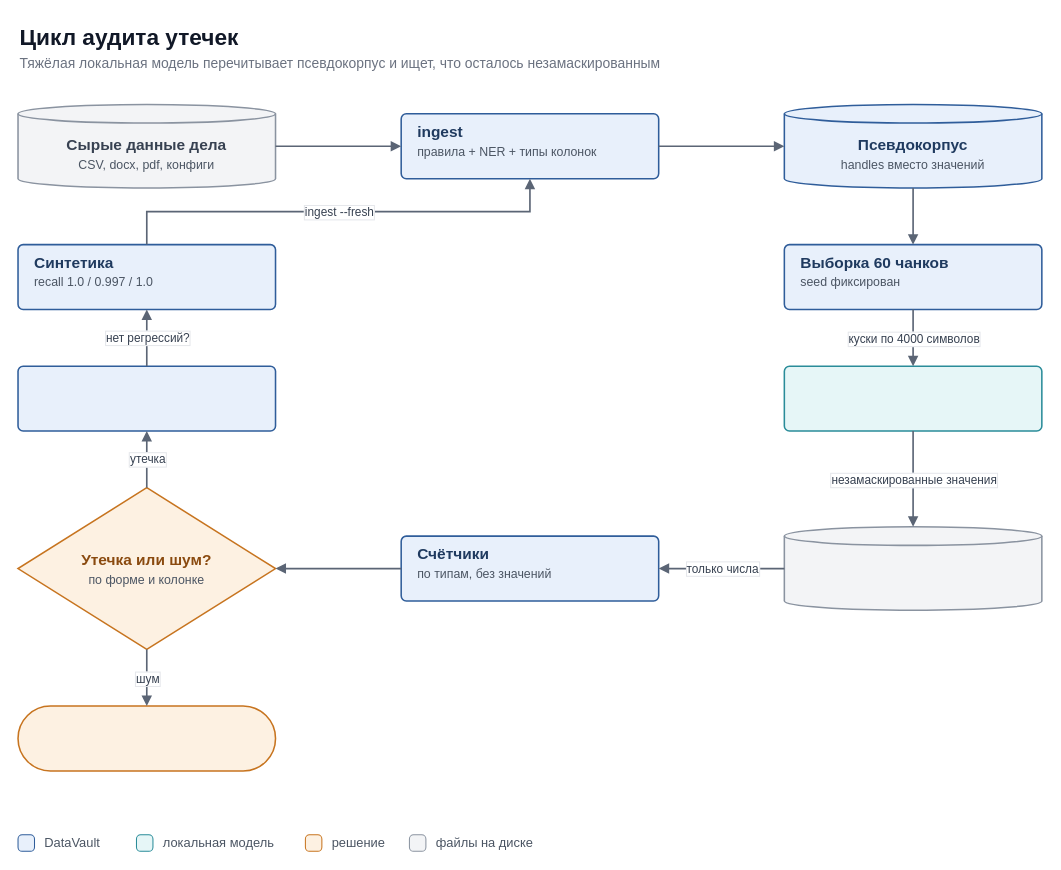
Image size: 1061x870. Some labels were removed from this diagram. The centre of each missing label's shape, as x and y in pixels:
audit.json находки со значениями, 600: the point at 912,568
qwen3.8-27b LM Studio, 1 запрос за раз: the point at 912,398
Допустимые мелочи версии, обрывки, AD-группы: the point at 146,738
Правка правил regex, header, gate, stop-list: the point at 146,398
